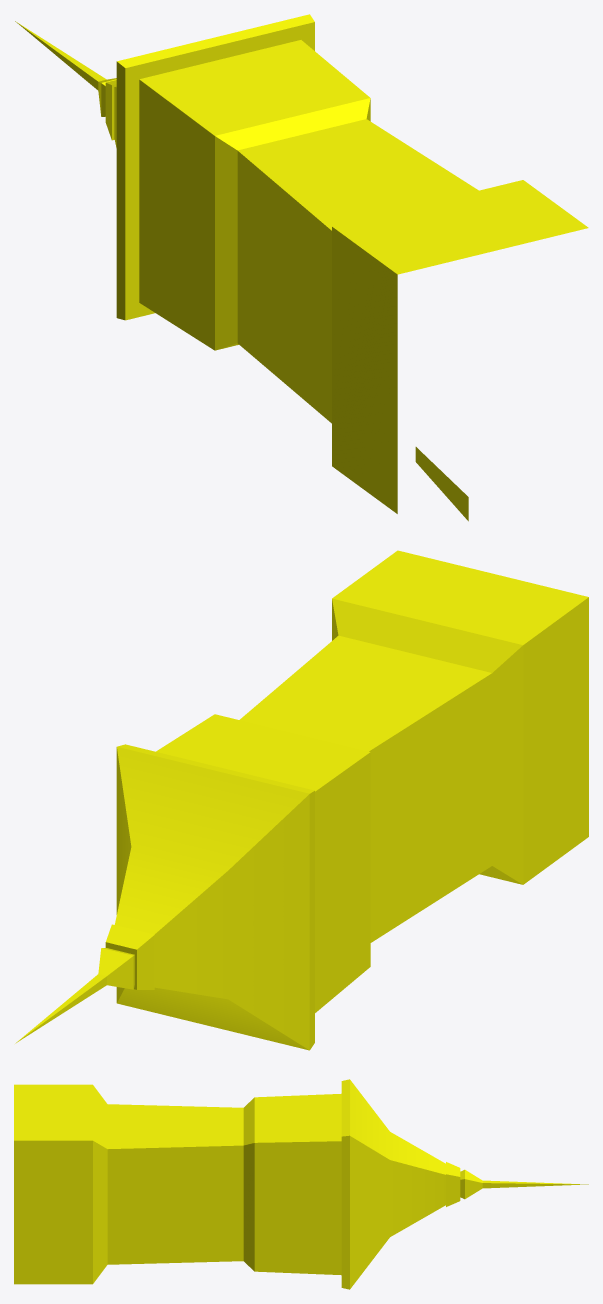
Rendered from wall_tower.glb.
3 views of the same model, one above another, from view 1: azimuth 30°, elevation 25°; view 2: azimuth 150°, elevation 25°; view 3: azimuth 270°, elevation 25° (orthographic). The views are drawn at different scales.
Parts seen in each view (by area): view 1: Wall_tower1; view 2: Wall_tower1; view 3: Wall_tower1.
Boxes of the visible parts, bbox=[...] form: Wall_tower1: bbox=[15, 14, 588, 521]; Wall_tower1: bbox=[15, 550, 588, 1050]; Wall_tower1: bbox=[14, 1079, 588, 1289].
Size of what is drawn, in the model's own units: 2.02 by 2.72 by 8.67.
1 material, 1 textured.
